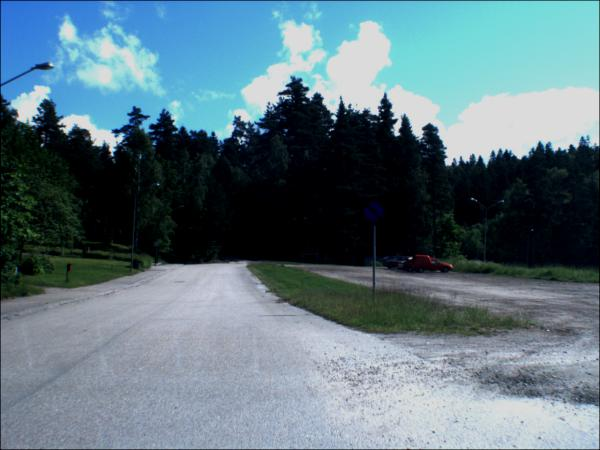NO_PARKING: (361, 201, 389, 229)
